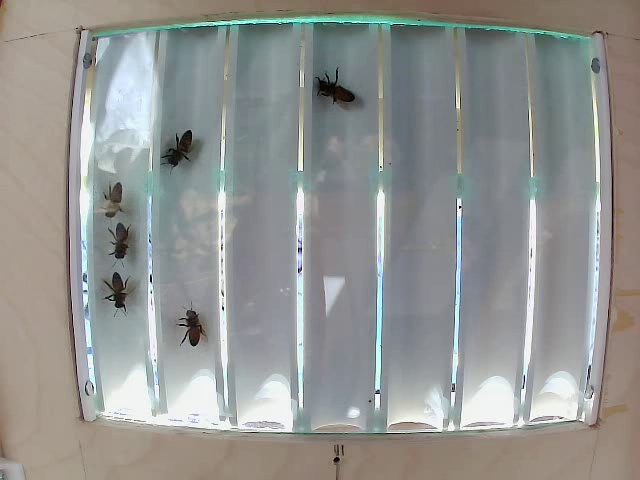bee: (167, 292, 223, 360), (97, 177, 144, 228), (154, 127, 199, 176), (101, 225, 141, 274), (308, 72, 348, 119), (98, 266, 132, 320)
